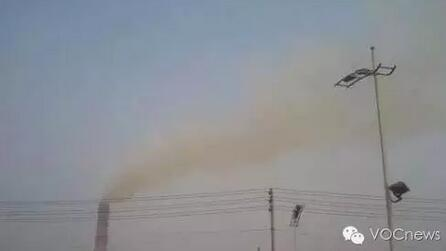dust: (80, 119, 281, 214)
